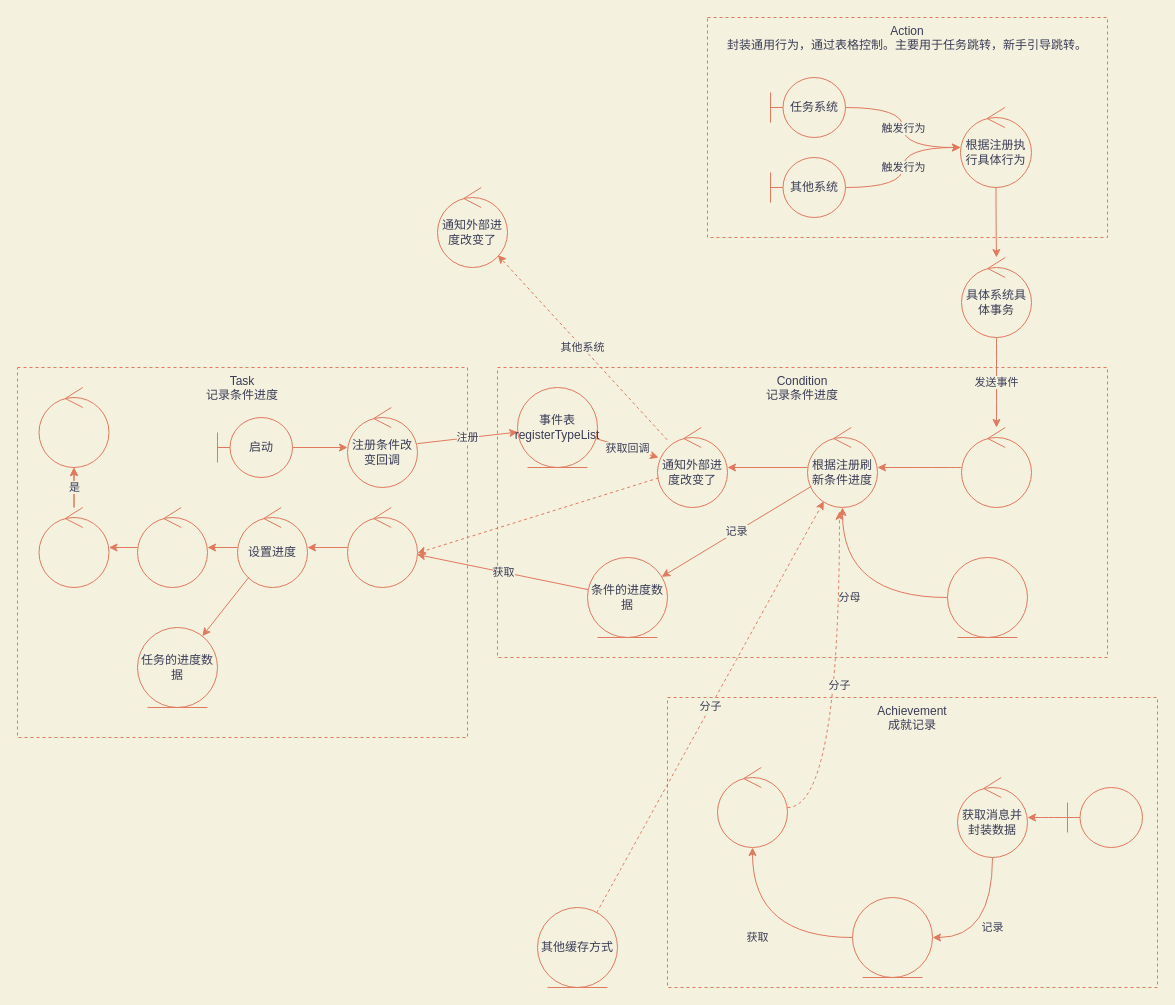
This 1175x1005 diagram has some shape labels left out. The centre of each missing label's shape, as x and y in pixels:
"接收事件" goes at (996,467).
"收到消息" goes at (1104,817).
"是否完成" goes at (73,547).
"条件配置参数" goes at (987,597).
"检查任务完成状态" goes at (382,547).
"缓存 m_achieve_dic" goes at (892,937).
"获取缓存并封装数据" goes at (752,807).
"设置红点" goes at (172,547).
"请求服务器完成任务" goes at (73,427).
